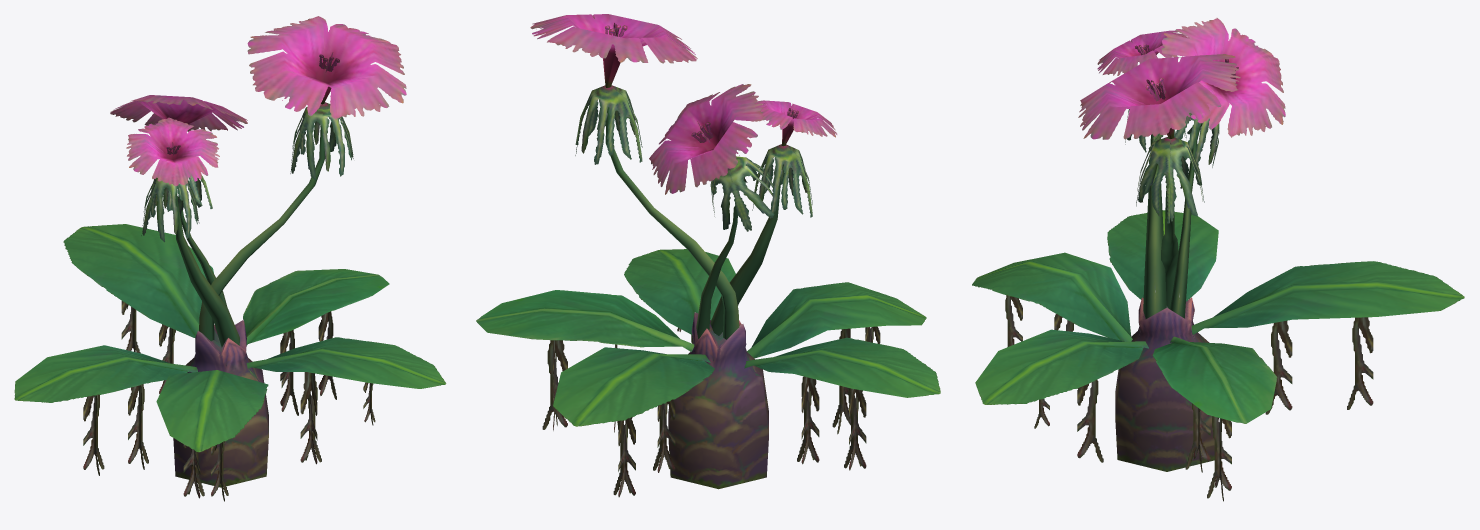
Rendered from scene_lawennushandao_zhiwu04.FBX.
The picture shows the model from 3 angles, left to right: view 1: azimuth 30°, elevation 25°; view 2: azimuth 150°, elevation 25°; view 3: azimuth 270°, elevation 25°; orthographic projection. The views are drawn at different scales.
Parts seen in each view (by area): view 1: scene_lawennushandao_zhiwu04; view 2: scene_lawennushandao_zhiwu04; view 3: scene_lawennushandao_zhiwu04.
Part boxes in pixels (<box>): scene_lawennushandao_zhiwu04: <box>14,16,446,501</box>; scene_lawennushandao_zhiwu04: <box>476,14,940,497</box>; scene_lawennushandao_zhiwu04: <box>972,18,1464,501</box>.
Size of the model in its own units: 126 by 119 by 123.
